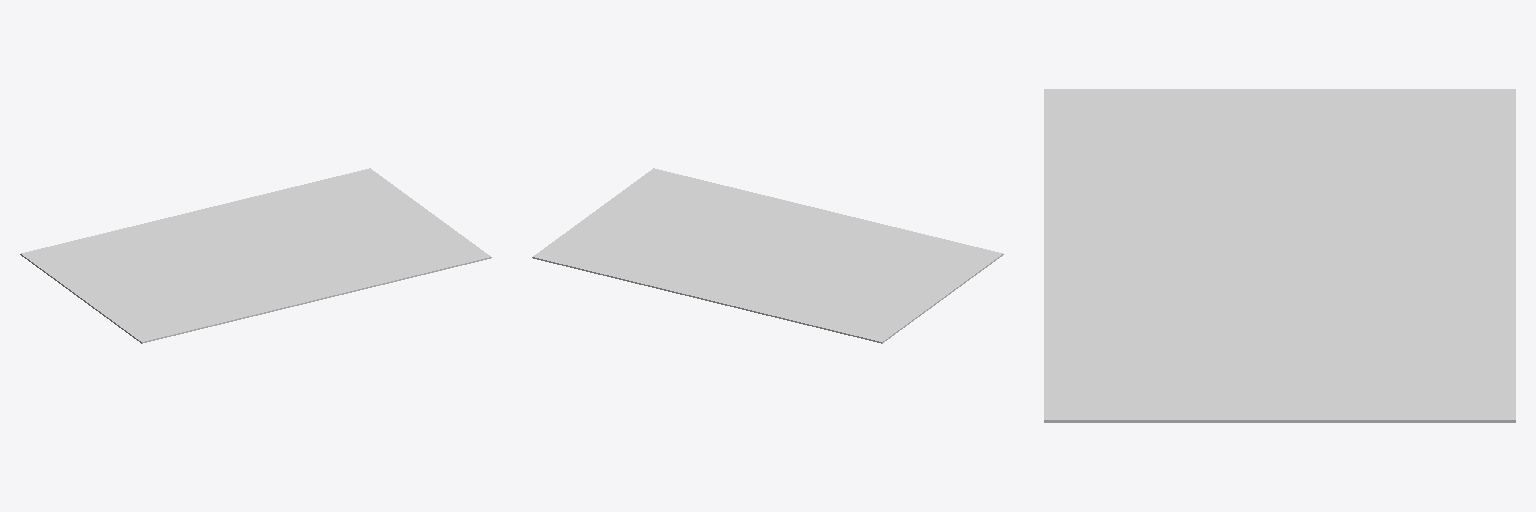
The robot description file, URDF, robot "calibration_mire":
<robot name="calibration_mire">
  <link name="base_link">
    <inertial>
      <origin xyz="0.0 0.0 0.0" rpy="0 0 0" />
      <mass value="1"/>
      <inertia ixx="0.001" ixy="0.0" ixz="0.0"
	       iyy="0.001" iyz="0.0"
	       izz="0.001" />
    </inertial>
    <visual>
      <origin xyz="0 0 0" rpy="0 0 0" />
      <geometry>
        <box size="0.5 0.3 0.002"/>
      </geometry>
      <material name="lightGrey">
        <color rgba="0.9 0.9 0.9 1"/>
      </material>
    </visual>
    <collision>
      <origin xyz="0 0 0" rpy="0 0 0" />
      <geometry>
        <box size="0.5 0.3 0.002"/>
      </geometry>
    </collision>
  </link>
</robot>

--- Facts derived from the render (not from the file) ---
Views: 3 orthographic renders of the robot side by side, from view 1: azimuth 30°, elevation 25°; view 2: azimuth 150°, elevation 25°; view 3: azimuth 270°, elevation 25°.
Robot: calibration_mire — 1 links, 0 joints (none); root link base_link; default pose: every joint at zero.
Visible links, largest first — view 1: base_link; view 2: base_link; view 3: base_link.
Boxes of the visible links, x1,y1,x2,y2 form: base_link: (20, 168, 491, 343); base_link: (532, 168, 1003, 343); base_link: (1044, 89, 1515, 422).
Size in the robot's own frame: 0.5 by 0.3 by 0.002 metres.
Geometry: primitives only (box / cylinder / sphere), no mesh files.